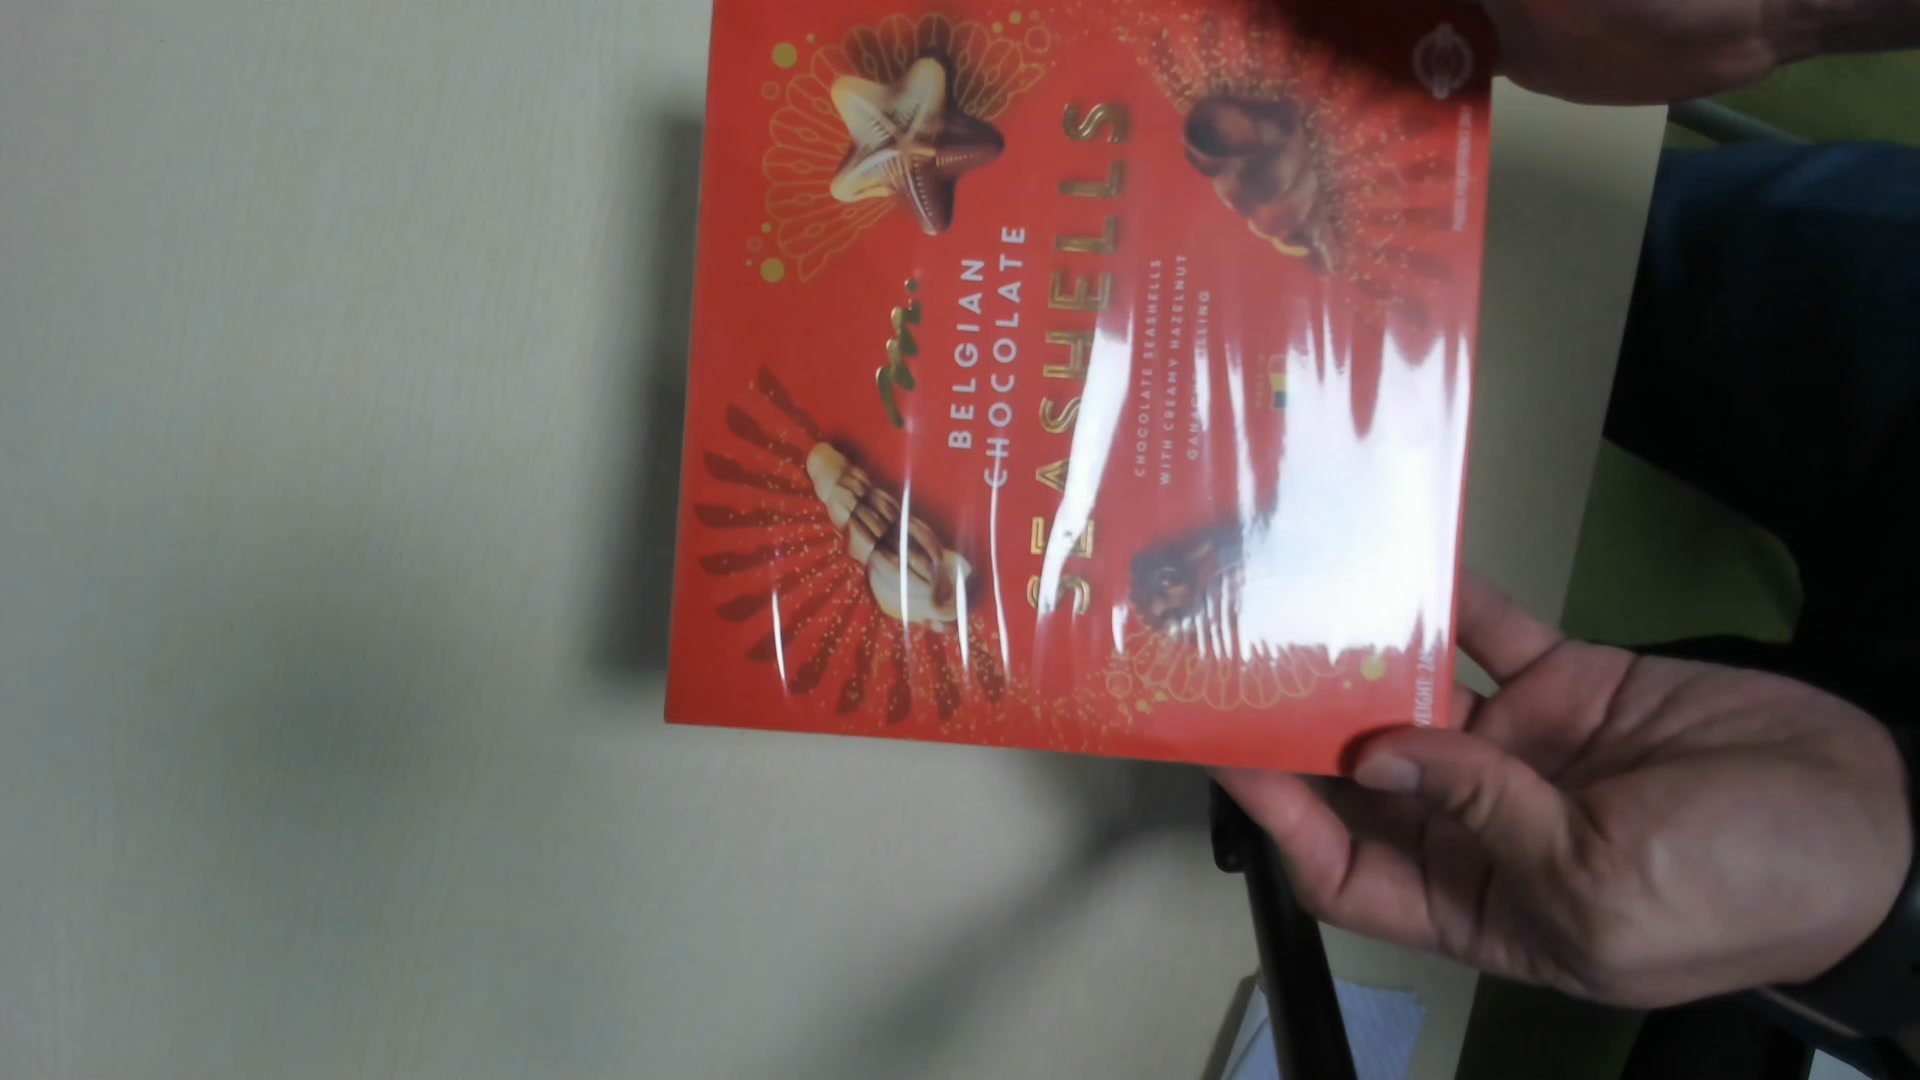SweetsChocolatesOthers_200-299g_Halal_Nonhealthy: (661, 11, 1490, 769)
